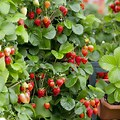Fresa: (36, 87, 46, 99), (51, 85, 60, 97), (42, 18, 52, 28), (56, 24, 65, 35), (27, 9, 35, 21), (74, 55, 82, 66), (80, 56, 88, 65), (81, 48, 88, 58)
